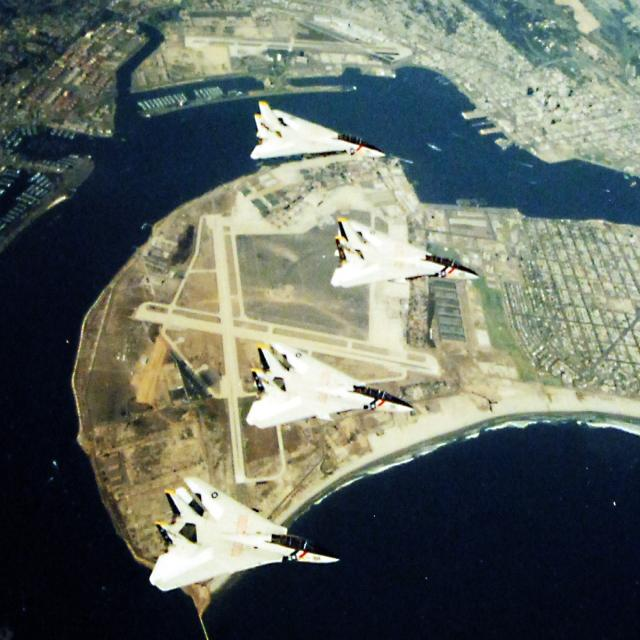MIL_Plane: (148, 475, 341, 592), (245, 342, 414, 431), (330, 217, 481, 288), (250, 100, 386, 161)
